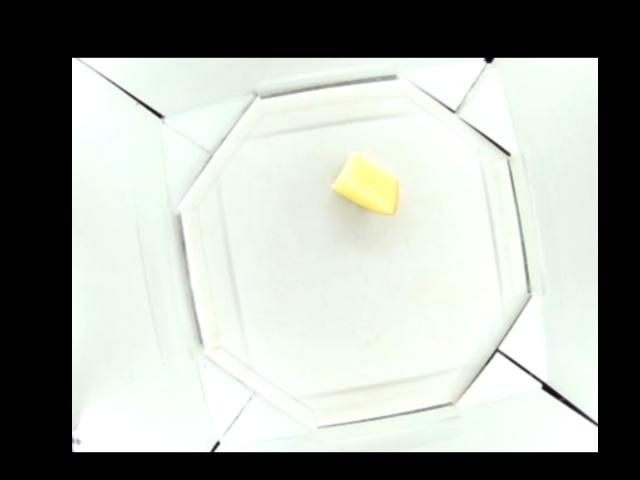Potato: (333, 155, 402, 215)
